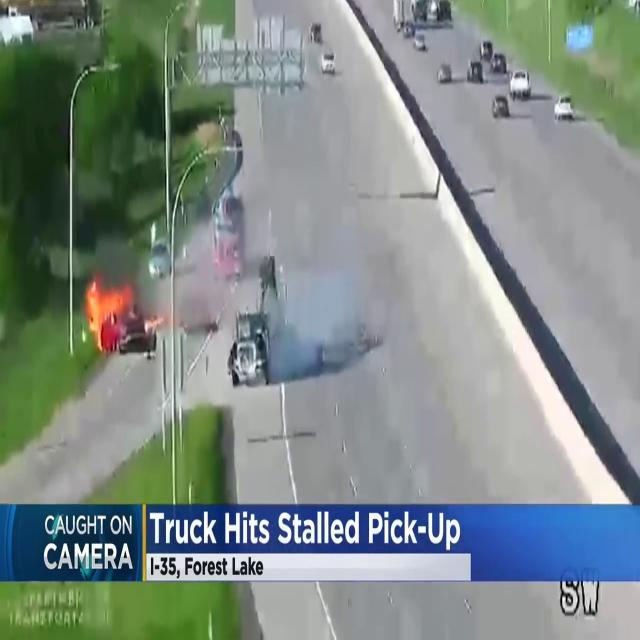Fire: (83, 276, 135, 352)
Smoke: (241, 59, 379, 396), (146, 210, 229, 338)
